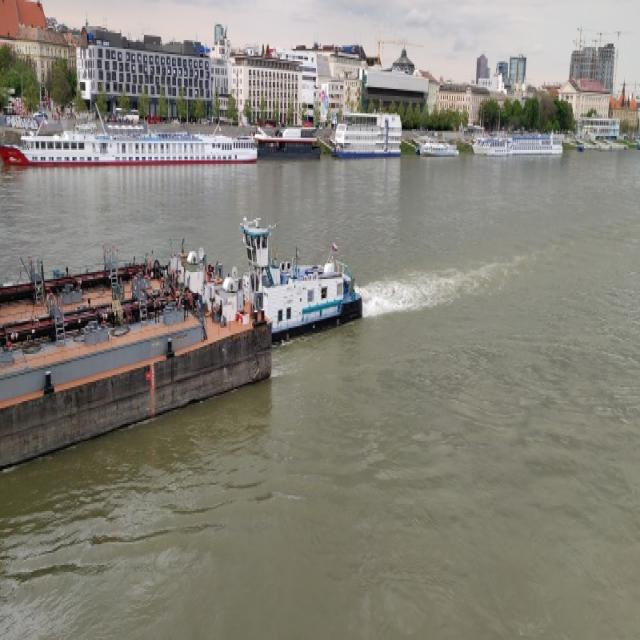tugboat: (211, 214, 368, 358)
